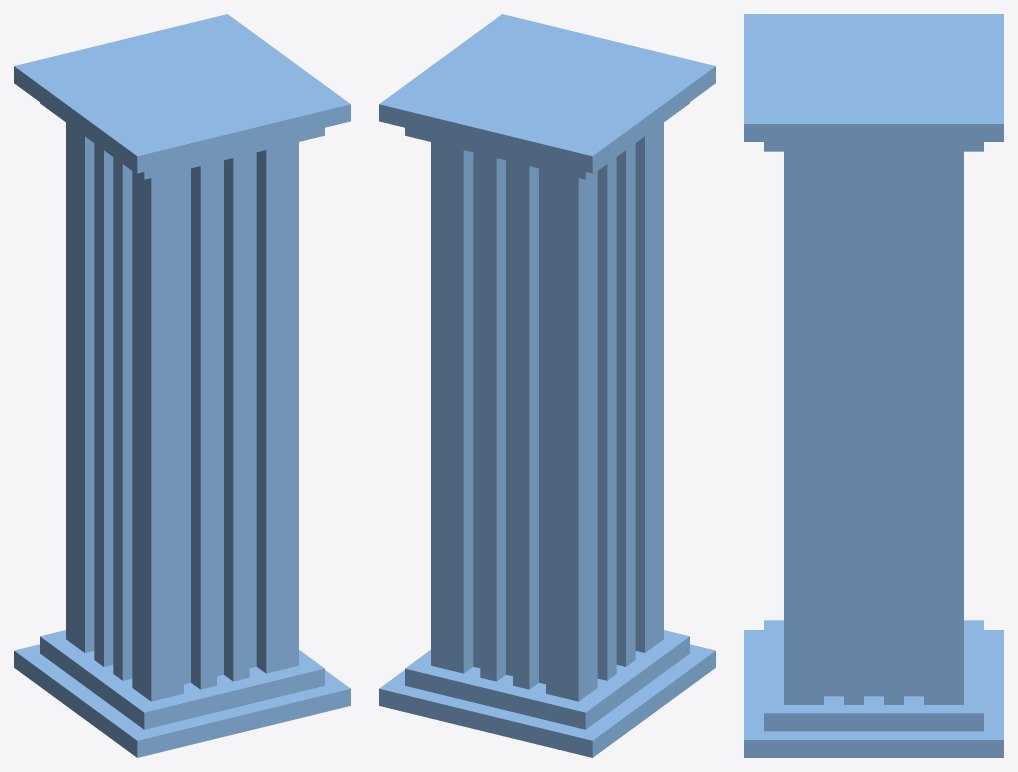
File: colone.glb
3 renders of one model, left to right at view 1: azimuth 30°, elevation 25°; view 2: azimuth 150°, elevation 25°; view 3: azimuth 270°, elevation 25°, orthographic. The views are drawn at different scales.
Visible parts, largest first — view 1: Untitled; view 2: Untitled; view 3: Untitled.
Boxes of the visible parts, bbox=[...] form: Untitled: bbox=[14, 14, 350, 757]; Untitled: bbox=[379, 14, 715, 757]; Untitled: bbox=[744, 14, 1003, 757].
Bounding box in the file's own units: 1.3 × 3.5 × 1.3.
1 material, 1 textured.
